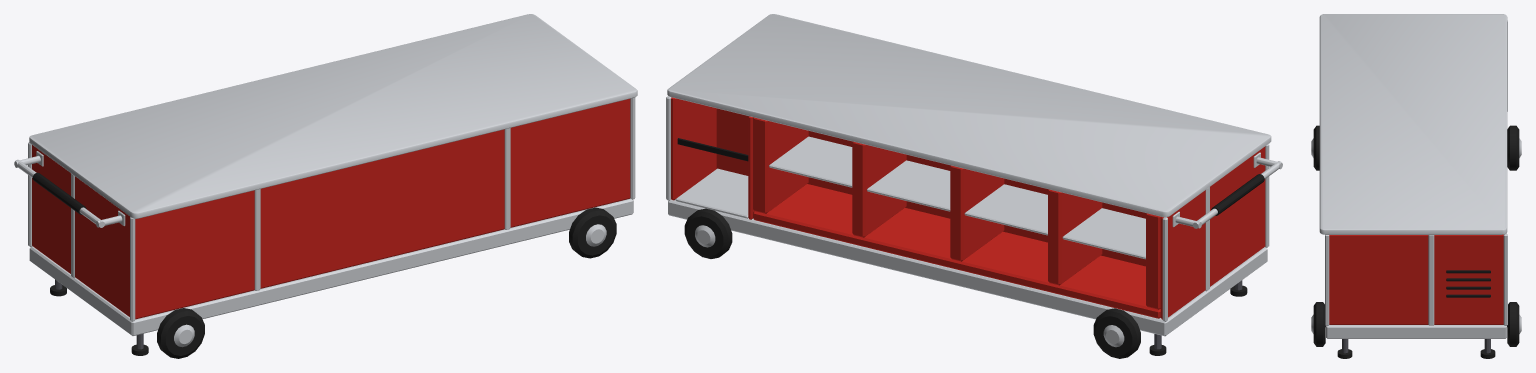
The model's file is carro_grande.glb.
3 views of the same model, side by side, from view 1: azimuth 30°, elevation 25°; view 2: azimuth 150°, elevation 25°; view 3: azimuth 270°, elevation 25° (orthographic). The views are drawn at different scales.
Visible parts, largest first — view 1: carro_grande_estructura, pieza_pintura; view 2: carro_grande_estructura, pieza_pintura, pieza_tapa_bahia_3, pieza_tapa_bahia_4, pieza_tapa_bahia_1, pieza_tapa_bahia_2; view 3: carro_grande_estructura, pieza_pintura.
Boxes of the visible parts, x1,y1,x2,y2 form: carro_grande_estructura: (14, 14, 637, 358); pieza_pintura: (32, 99, 630, 319); carro_grande_estructura: (666, 14, 1282, 358); pieza_pintura: (671, 97, 1265, 319); pieza_tapa_bahia_3: (867, 160, 950, 211); pieza_tapa_bahia_4: (769, 136, 852, 187); pieza_tapa_bahia_1: (1062, 208, 1145, 259); pieza_tapa_bahia_2: (964, 184, 1047, 235); carro_grande_estructura: (1311, 14, 1521, 358); pieza_pintura: (1329, 234, 1503, 324).
Size of what is drawn, in the model's own units: 3.6 by 1 by 1.41.
